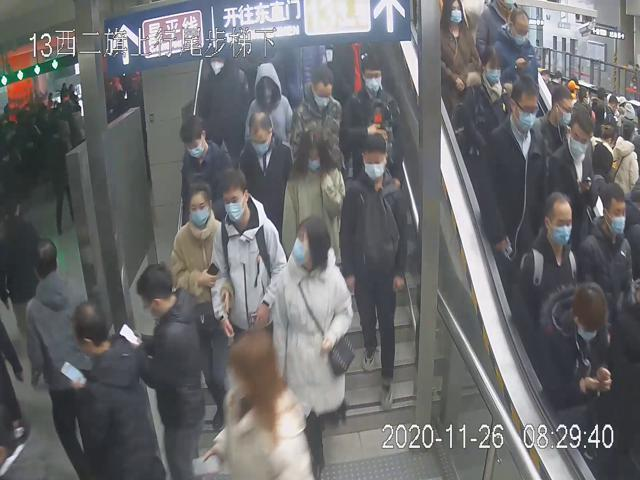person: (269, 212, 356, 474), (335, 133, 408, 410), (169, 170, 241, 433), (208, 162, 287, 348), (478, 72, 545, 289), (506, 189, 580, 354), (281, 121, 344, 276), (235, 109, 295, 234), (177, 113, 236, 230), (340, 54, 396, 168), (293, 61, 343, 165), (244, 60, 293, 145)
